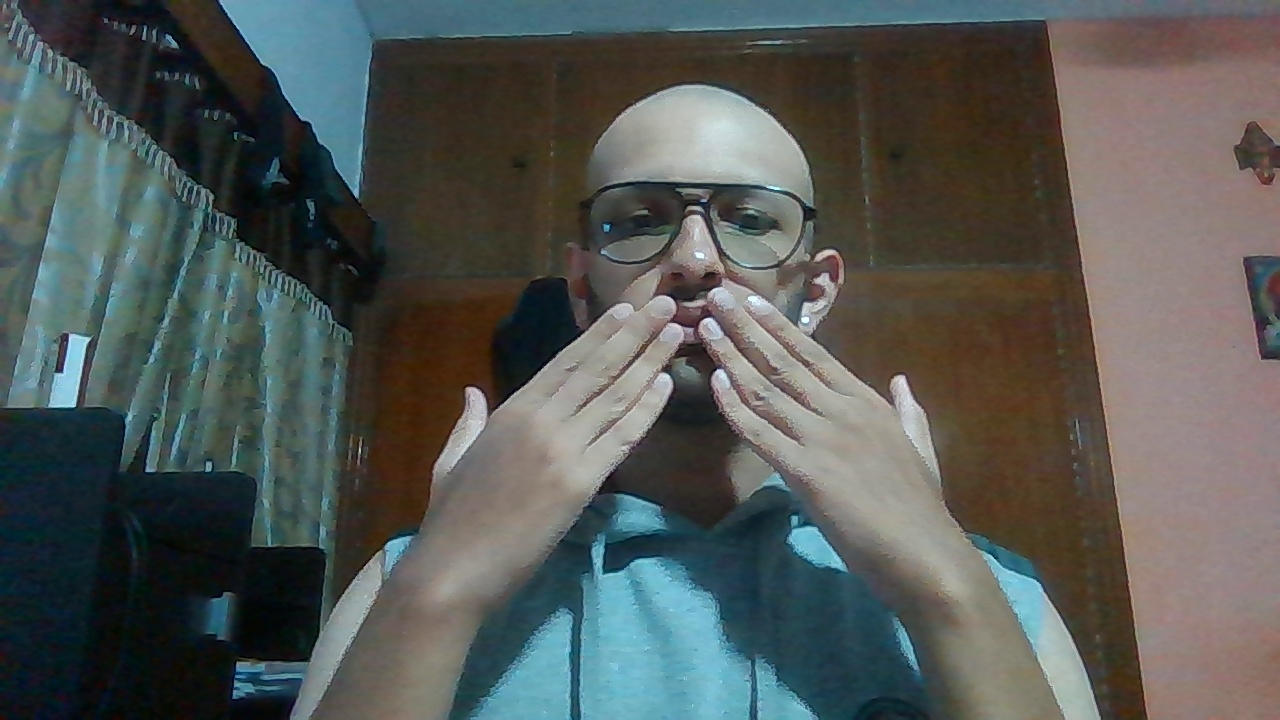Thank You: (417, 287, 952, 584)
